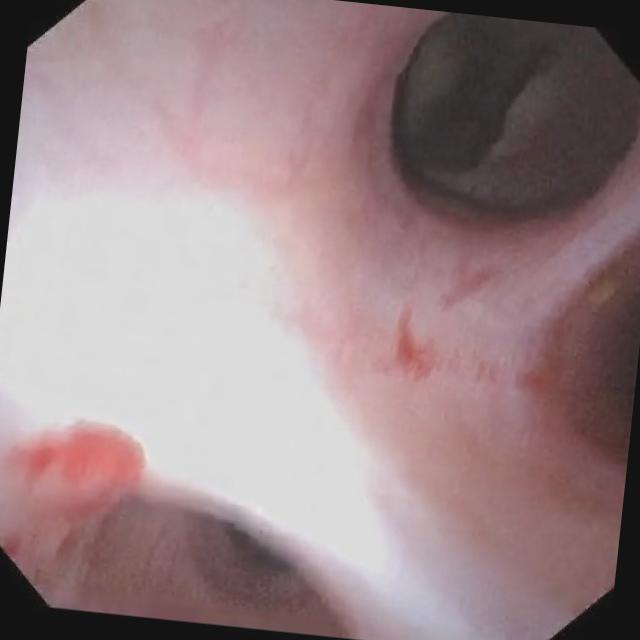stone-new: (396, 13, 550, 177)
